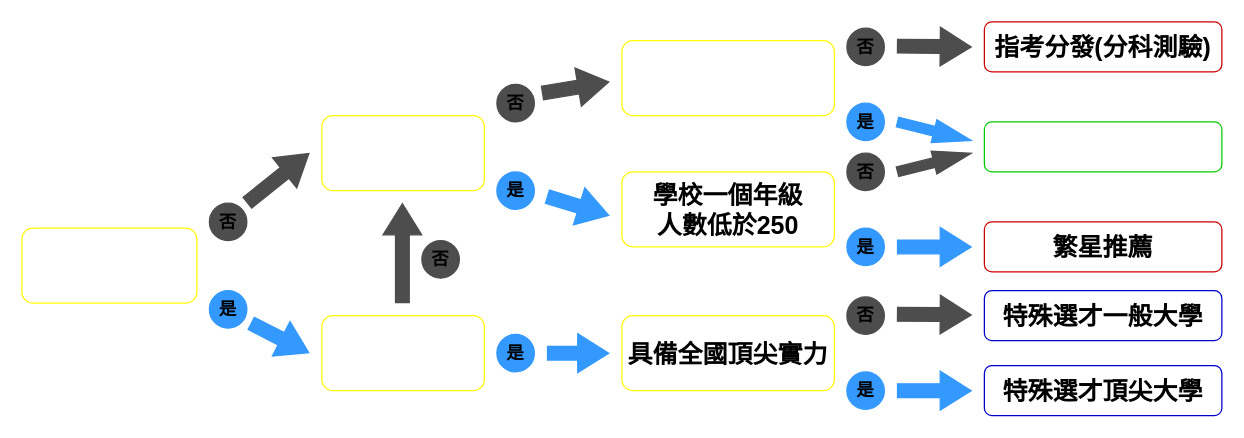
This 1244x438 diagram has some shape labels left out. Each missing label, with the box of its shape:
個人申請: (983, 121, 1222, 172)
對未來校系有 想法正在準備: (621, 39, 834, 116)
平時成績 排名優異: (321, 114, 484, 191)
是否有特殊 專長與興趣: (21, 227, 197, 303)
該專長是否 有證明文件: (321, 314, 484, 391)
